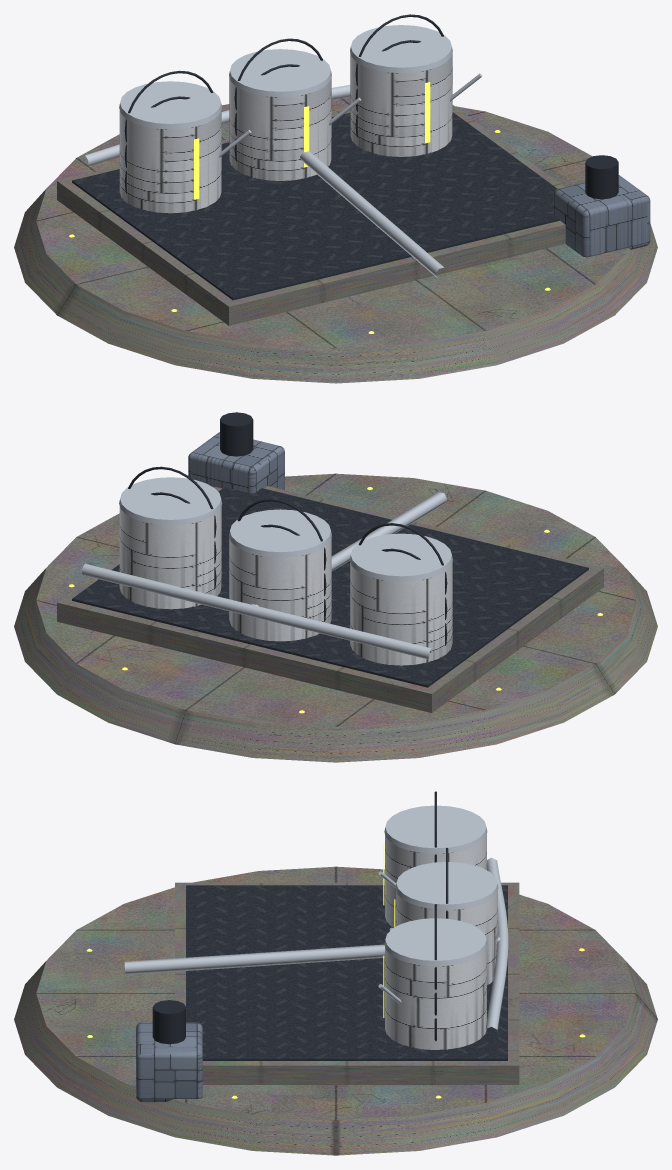
File: tankfarm-T2.glb
3 renders of one model, top to bottom at view 1: azimuth 30°, elevation 25°; view 2: azimuth 150°, elevation 25°; view 3: azimuth 270°, elevation 25°, orthographic.
Size of the model in its own units: 5.8 by 1.66 by 5.8.
Materials: 7 (4 with a texture image).
